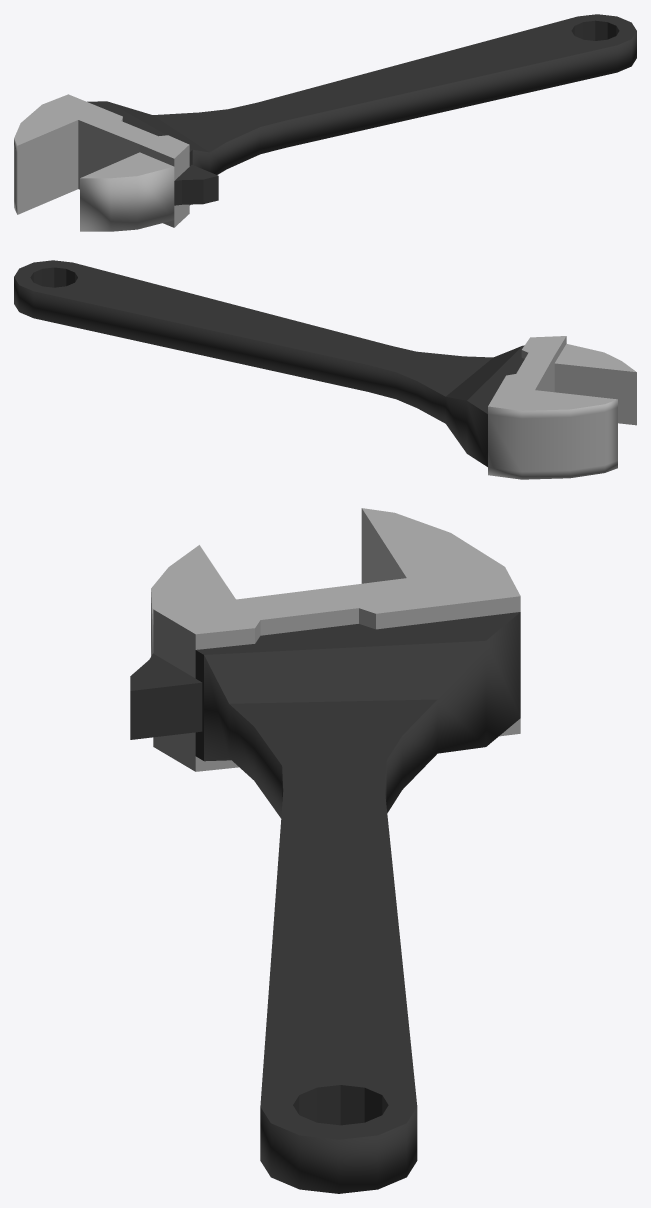
File: wrench.glb
3 views of the same model, one above another, from view 1: azimuth 30°, elevation 25°; view 2: azimuth 150°, elevation 25°; view 3: azimuth 270°, elevation 25° (orthographic). The views are drawn at different scales.
Parts seen in each view (by area): view 1: Wrench, Wrench Ac; view 2: Wrench, Wrench Ac; view 3: Wrench, Wrench Ac.
Boxes of the visible parts, left/top/right/bottom form: Wrench: left=14, top=14, right=636, bottom=227; Wrench Ac: left=80, top=152, right=218, bottom=231; Wrench: left=14, top=260, right=617, bottom=479; Wrench Ac: left=554, top=344, right=636, bottom=425; Wrench: left=153, top=508, right=520, bottom=1193; Wrench Ac: left=130, top=545, right=235, bottom=739.
Size of the model in its own units: 0.4112 by 0.0447 by 0.115.
2 materials, 2 textured.
